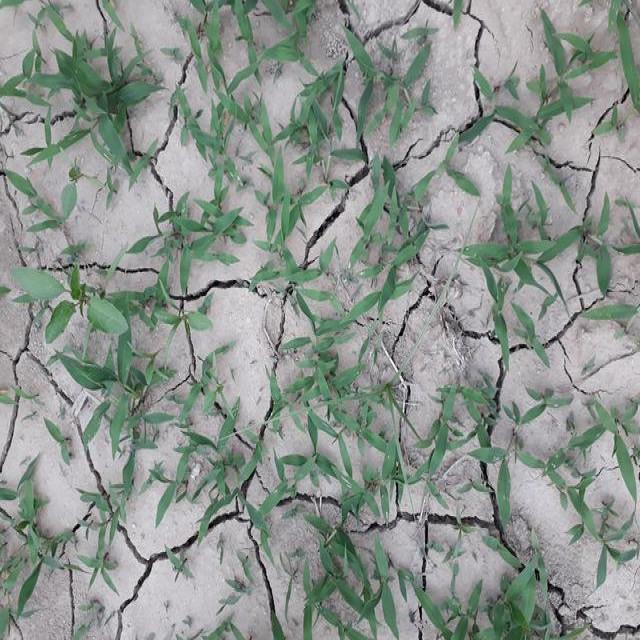weed: (260, 337, 384, 640), (176, 19, 444, 153), (252, 170, 446, 318), (4, 203, 127, 435), (470, 183, 640, 301), (151, 379, 264, 539), (468, 36, 622, 144), (34, 47, 153, 159), (434, 394, 538, 486), (146, 201, 247, 266), (490, 547, 552, 640), (587, 399, 640, 496)
